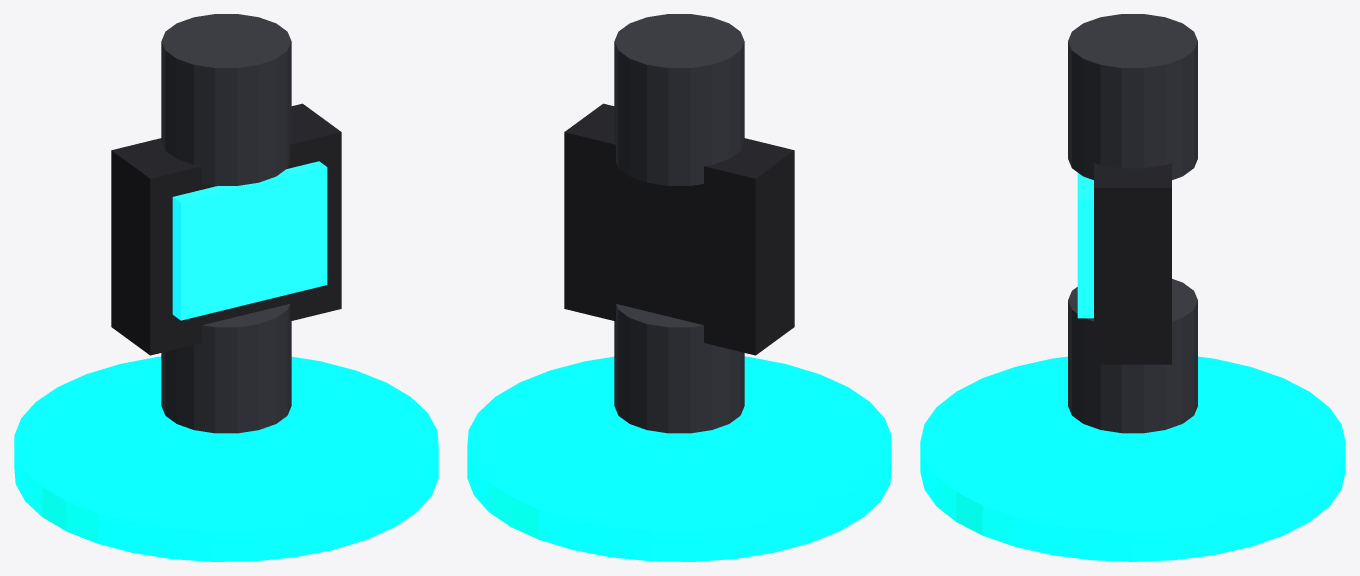
Rendered from fashion_watch.glb.
The picture shows the model from 3 angles, left to right: view 1: azimuth 30°, elevation 25°; view 2: azimuth 150°, elevation 25°; view 3: azimuth 270°, elevation 25°; orthographic projection.
Visible parts, largest first — view 1: 06_05_Popular_Fashion_Watch_ROOT_base, 06_05_Popular_Fashion_Watch_part_01, 06_05_Popular_Fashion_Watch_part_04, 06_05_Popular_Fashion_Watch_part_02, 06_05_Popular_Fashion_Watch_part_03; view 2: 06_05_Popular_Fashion_Watch_ROOT_base, 06_05_Popular_Fashion_Watch_part_01, 06_05_Popular_Fashion_Watch_part_04, 06_05_Popular_Fashion_Watch_part_03; view 3: 06_05_Popular_Fashion_Watch_ROOT_base, 06_05_Popular_Fashion_Watch_part_04, 06_05_Popular_Fashion_Watch_part_01, 06_05_Popular_Fashion_Watch_part_03, 06_05_Popular_Fashion_Watch_part_02.
Boxes of the visible parts, bbox=[...] form: 06_05_Popular_Fashion_Watch_ROOT_base: bbox=[14, 356, 438, 561]; 06_05_Popular_Fashion_Watch_part_01: bbox=[111, 103, 341, 355]; 06_05_Popular_Fashion_Watch_part_04: bbox=[161, 14, 291, 185]; 06_05_Popular_Fashion_Watch_part_02: bbox=[172, 161, 327, 320]; 06_05_Popular_Fashion_Watch_part_03: bbox=[161, 304, 291, 433]; 06_05_Popular_Fashion_Watch_ROOT_base: bbox=[467, 356, 891, 561]; 06_05_Popular_Fashion_Watch_part_01: bbox=[564, 103, 794, 355]; 06_05_Popular_Fashion_Watch_part_04: bbox=[614, 14, 744, 185]; 06_05_Popular_Fashion_Watch_part_03: bbox=[614, 304, 744, 433]; 06_05_Popular_Fashion_Watch_ROOT_base: bbox=[920, 356, 1345, 561]; 06_05_Popular_Fashion_Watch_part_04: bbox=[1068, 14, 1197, 179]; 06_05_Popular_Fashion_Watch_part_01: bbox=[1094, 162, 1171, 364]; 06_05_Popular_Fashion_Watch_part_03: bbox=[1068, 279, 1197, 433]; 06_05_Popular_Fashion_Watch_part_02: bbox=[1077, 173, 1093, 318].
Size of the model in its own units: 0.76 by 0.85 by 0.76.
